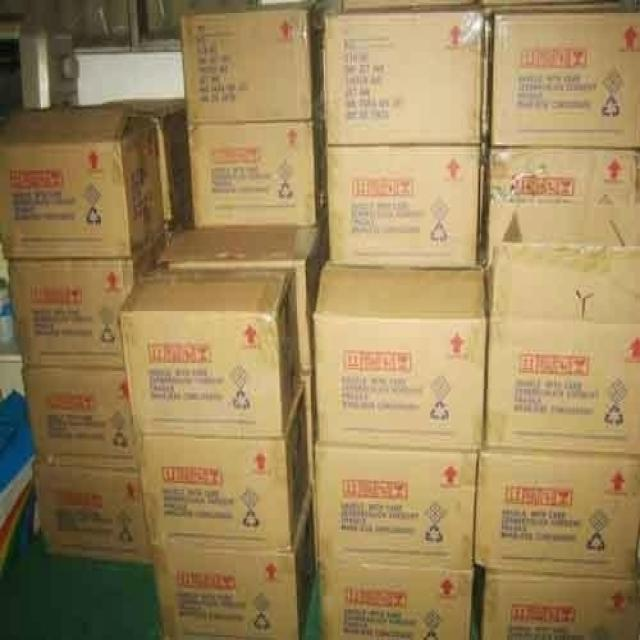box: (314, 263, 487, 451), (482, 247, 639, 454), (120, 267, 302, 437), (137, 386, 311, 552), (150, 483, 317, 638), (0, 107, 166, 260), (159, 225, 327, 370), (472, 449, 639, 578), (314, 437, 477, 569), (324, 15, 487, 146), (8, 233, 166, 367), (487, 11, 639, 147), (327, 143, 484, 265), (481, 149, 639, 268), (180, 1, 325, 121), (188, 103, 325, 225), (97, 97, 195, 251), (32, 458, 151, 563), (471, 564, 639, 638), (20, 367, 137, 467), (317, 566, 469, 638), (303, 368, 319, 488)
